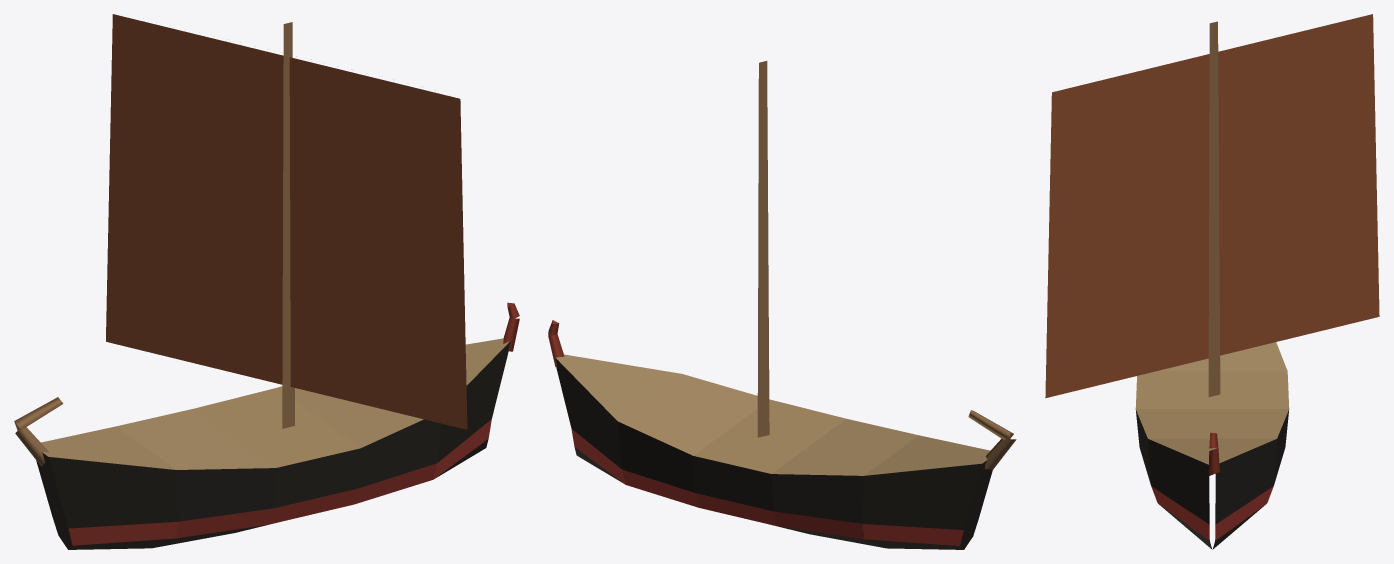
Rendered from hull_eur_greek_small_lod.glb.
3 renders of one model, left to right at view 1: azimuth 30°, elevation 25°; view 2: azimuth 150°, elevation 25°; view 3: azimuth 270°, elevation 25°, orthographic. The views are drawn at different scales.
Visible parts, largest first — view 1: lod; view 2: lod; view 3: lod.
Boxes of the visible parts, x1,y1,x2,y2 form: lod: (14, 14, 519, 549); lod: (548, 61, 1016, 549); lod: (1045, 14, 1379, 549).
Bounding box in the file's own units: 10.75 × 10.14 × 6.66.
